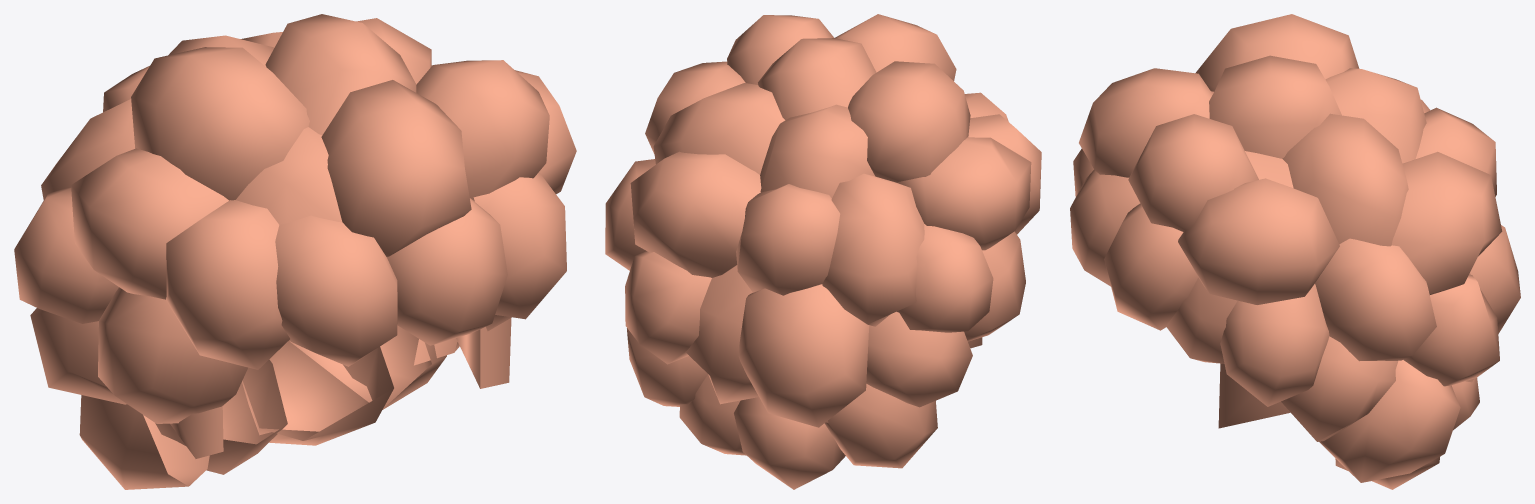
Rendered from Male_Hairs_04_v4.fbx.
3 views of the same model, side by side, from view 1: azimuth 30°, elevation 25°; view 2: azimuth 150°, elevation 25°; view 3: azimuth 270°, elevation 25° (orthographic). The views are drawn at different scales.
Parts seen in each view (by area): view 1: Male_Hairs_04_v4; view 2: Male_Hairs_04_v4; view 3: Male_Hairs_04_v4.
Part boxes in pixels (x1=…): Male_Hairs_04_v4: x1=14, y1=14, x2=576, y2=489; Male_Hairs_04_v4: x1=605, y1=14, x2=1041, y2=489; Male_Hairs_04_v4: x1=1070, y1=14, x2=1520, y2=489.
Bounding box in the file's own units: 78.16 × 75.37 × 76.42.
